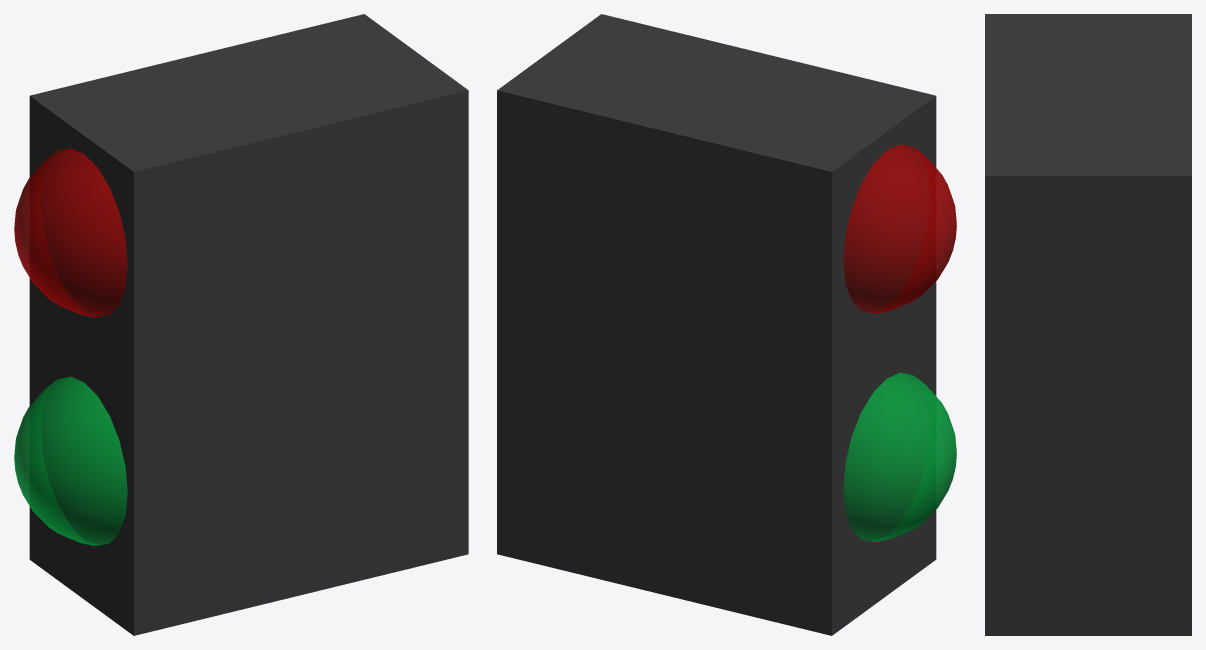
Rendered from Metal_Detector_Small_Light_Sec.fbx.
The picture shows the model from 3 angles, left to right: view 1: azimuth 30°, elevation 25°; view 2: azimuth 150°, elevation 25°; view 3: azimuth 270°, elevation 25°; orthographic projection.
Visible parts, largest first — view 1: pCube28, pSphere11, pSphere9; view 2: pCube28, pSphere11, pSphere9; view 3: pCube28.
Boxes of the visible parts, x1,y1,x2,y2 form: pCube28: (29, 14, 468, 635); pSphere11: (14, 148, 127, 317); pSphere9: (14, 376, 127, 545); pCube28: (497, 14, 936, 635); pSphere11: (843, 144, 956, 313); pSphere9: (843, 372, 956, 541); pCube28: (985, 14, 1191, 635).
Size of the model in its own units: 21.66 by 24.43 by 9.96.
